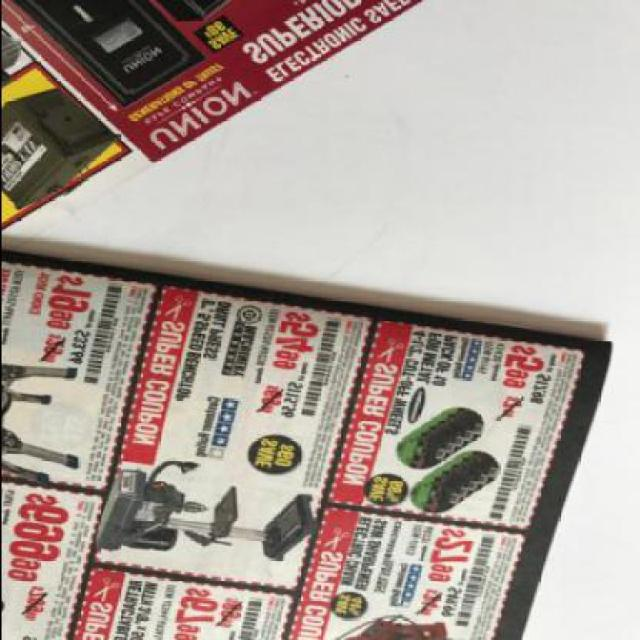PAPER: (2, 256, 616, 638), (2, 1, 424, 232)
